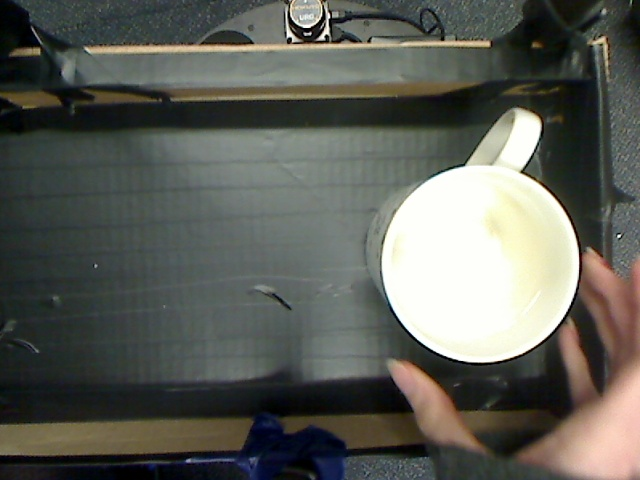mug: (357, 88, 606, 377)
